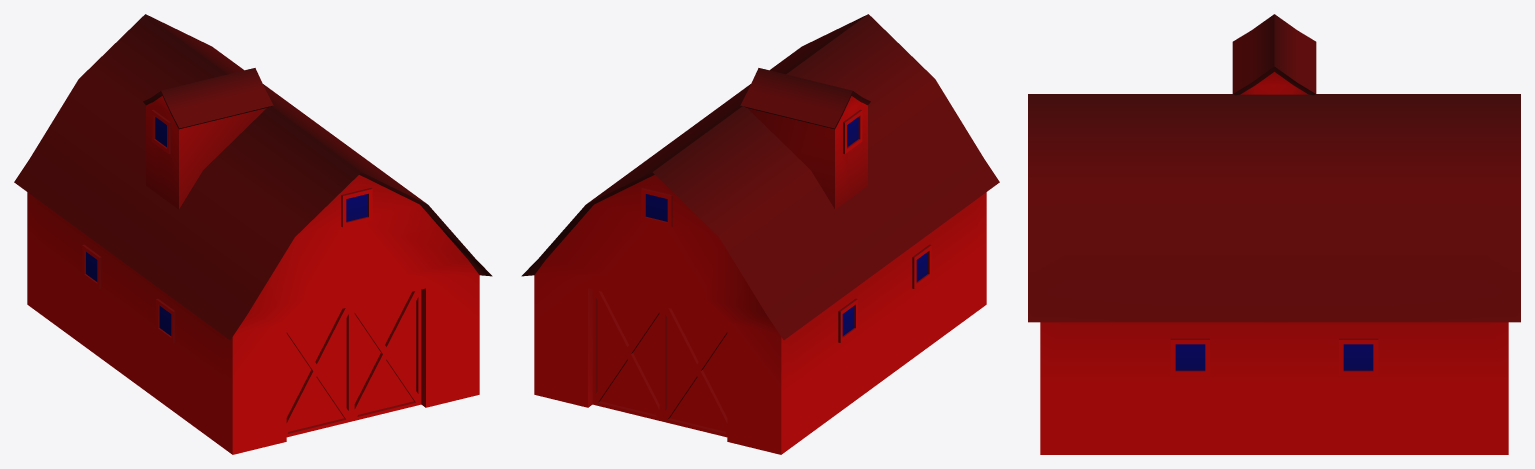
Rendered from buildings-farm-barn_v1.fbx.
3 renders of one model, left to right at view 1: azimuth 30°, elevation 25°; view 2: azimuth 150°, elevation 25°; view 3: azimuth 270°, elevation 25°, orthographic. The views are drawn at different scales.
Parts seen in each view (by area): view 1: Barn_base, Barn_reflWindow; view 2: Barn_base, Barn_reflWindow; view 3: Barn_base, Barn_reflWindow.
Boxes of the visible parts, left/top/right/bottom form: Barn_base: left=14, top=14, right=492, bottom=454; Barn_reflWindow: left=86, top=117, right=367, bottom=335; Barn_base: left=521, top=14, right=999, bottom=454; Barn_reflWindow: left=646, top=117, right=927, bottom=335; Barn_base: left=1028, top=14, right=1520, bottom=454; Barn_reflWindow: left=1175, top=344, right=1373, bottom=370.
Bounding box in the file's own units: 13.56 × 13.88 × 19.32.
